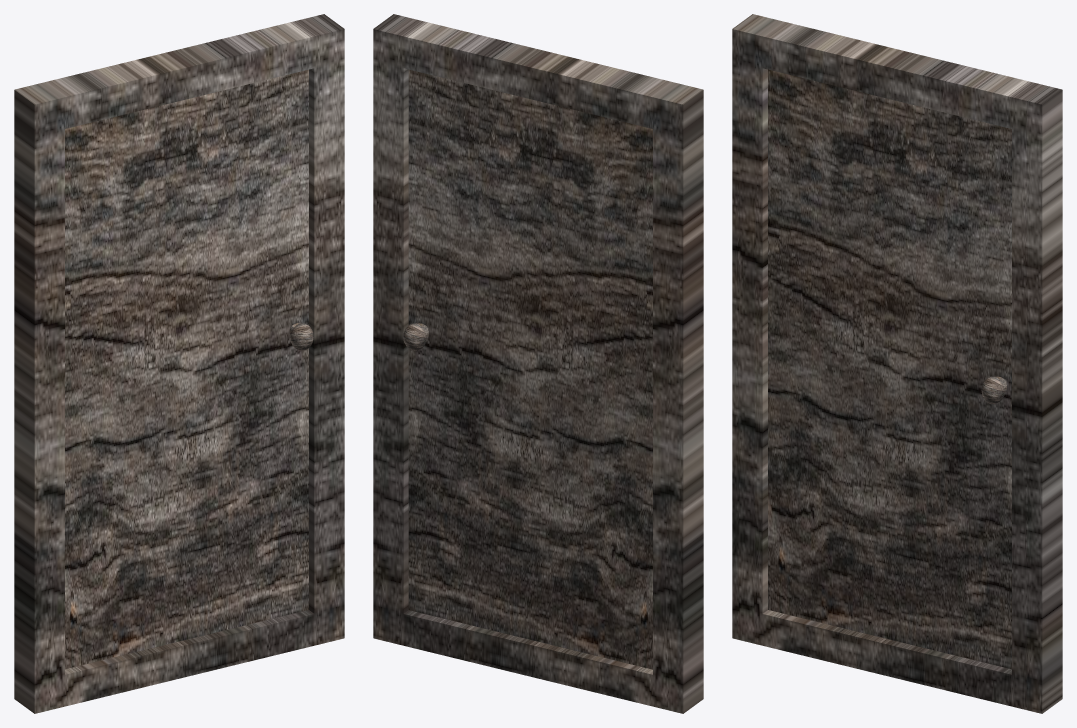
Rendered from Door.glb.
The picture shows the model from 3 angles, left to right: view 1: azimuth 30°, elevation 25°; view 2: azimuth 150°, elevation 25°; view 3: azimuth 330°, elevation 25°; orthographic projection.
Visible parts, largest first — view 1: Door, Doorframe, Door handle; view 2: Door, Doorframe, Door handle.001; view 3: Door, Doorframe, Door handle.
Part boxes in pixels (box(x1,y1,x2,y2)): Door: box(65, 69, 308, 669); Doorframe: box(14, 14, 344, 713); Door handle: box(289, 323, 313, 350); Door: box(408, 69, 652, 669); Doorframe: box(373, 14, 703, 713); Door handle.001: box(403, 323, 428, 350); Door: box(768, 69, 1011, 669); Doorframe: box(732, 14, 1062, 713); Door handle: box(981, 376, 1006, 403).
Bounding box in the file's own units: 1.07 × 2 × 0.2307.
Materials: 2 (2 with a texture image).
